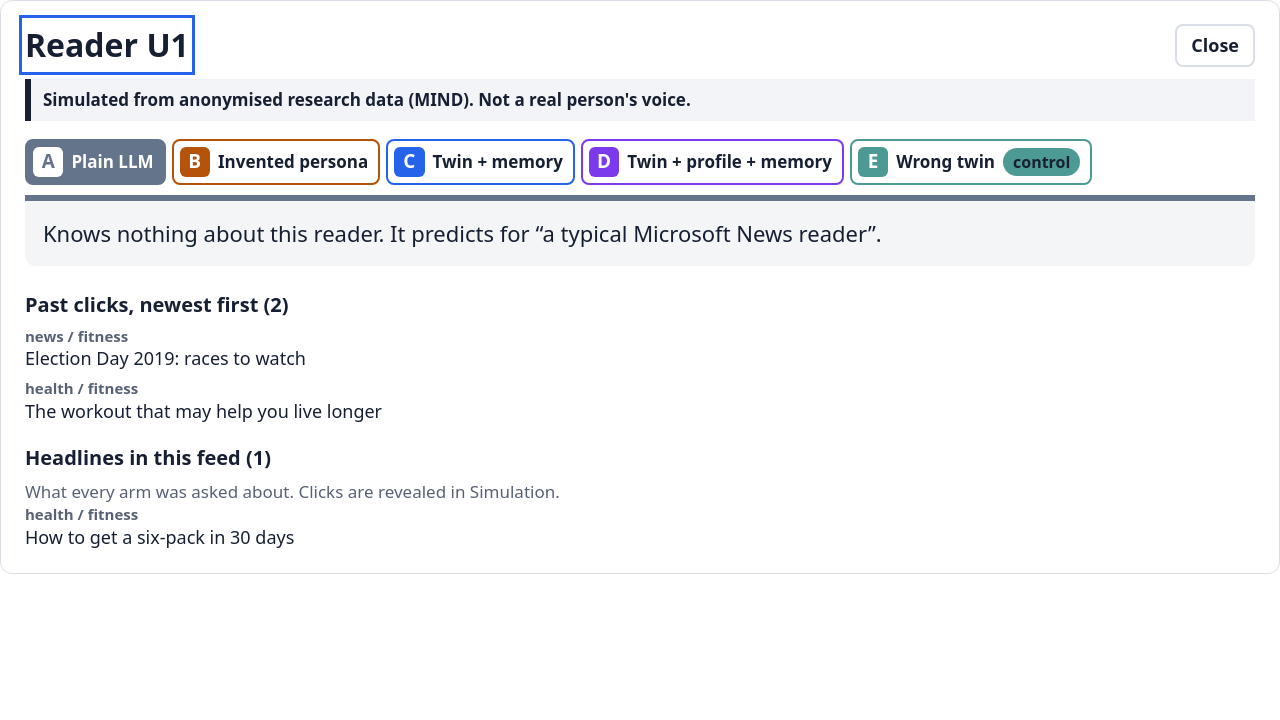
Test case: AgentPanel › shows memories with their retrieval reasons
Step 1. Click the tab "C Twin + memory" → click(481, 162), box [386,138,575,185]
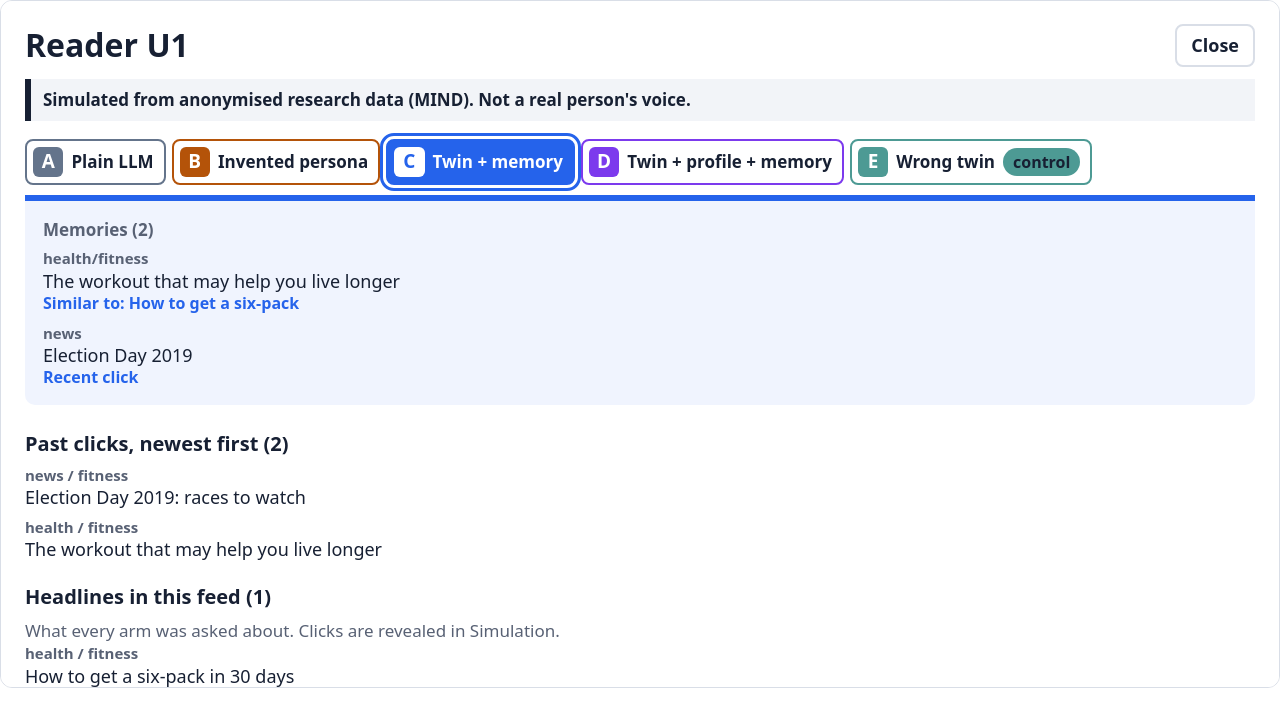
expect the panel shows "Similar to: How to get a six-pack": met, box [43,292,299,314]
expect the panel shows "Recent click": met, box [43,366,138,388]
